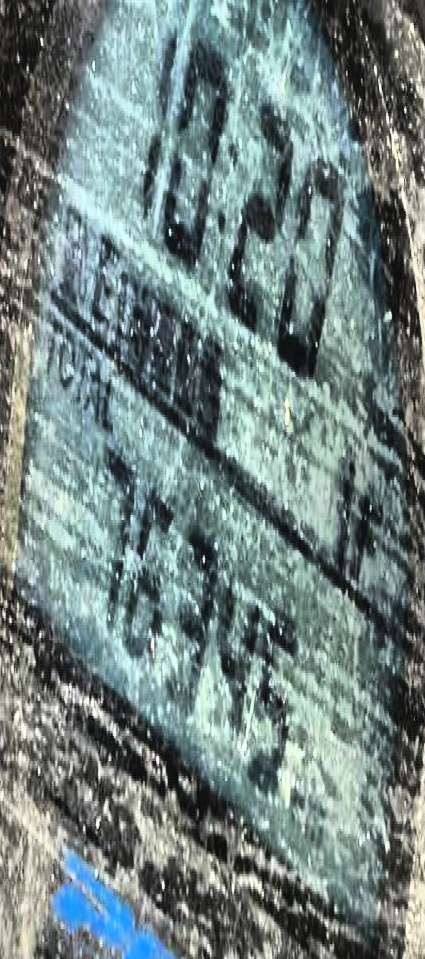0: (162, 23, 235, 251), (276, 171, 349, 377)
1: (136, 0, 185, 219)
2: (230, 73, 293, 344)
3: (165, 504, 214, 718)
4: (220, 550, 261, 771)
5: (257, 593, 294, 824)
6: (118, 474, 172, 670)
7: (98, 444, 132, 640)
X: (352, 479, 381, 585), (214, 128, 240, 238), (89, 218, 116, 319), (42, 299, 60, 384), (100, 361, 119, 437), (59, 324, 75, 397), (86, 356, 103, 422), (75, 329, 90, 399)
